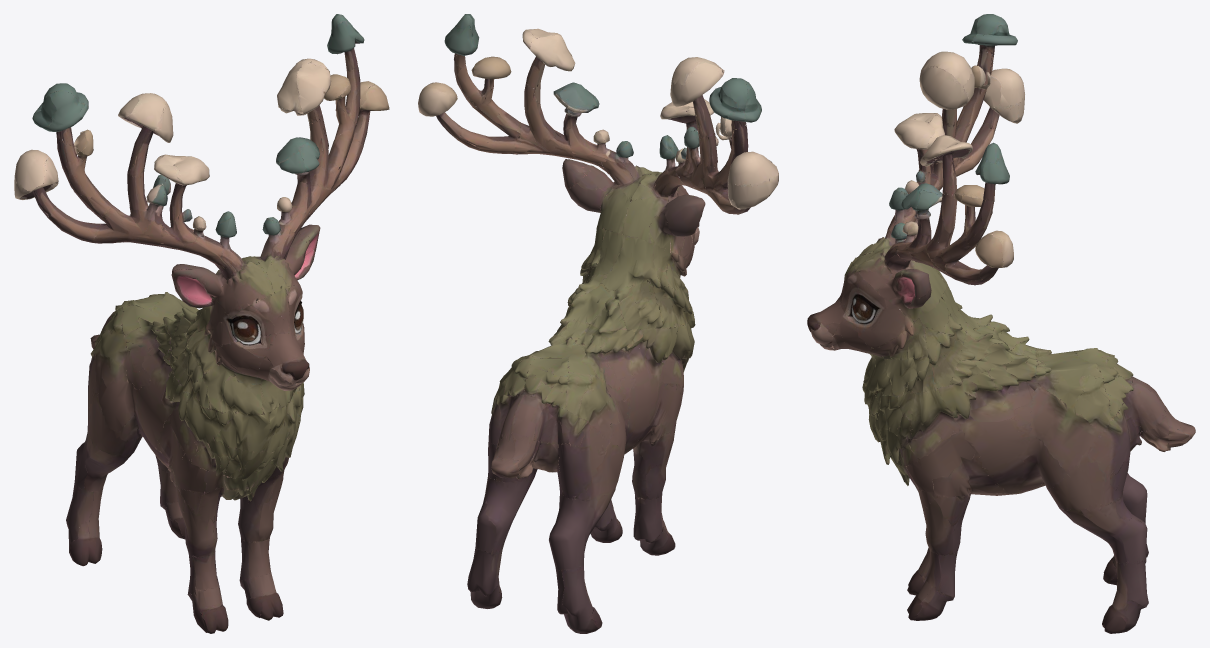
3 views of the same model, side by side, from view 1: azimuth 30°, elevation 25°; view 2: azimuth 150°, elevation 25°; view 3: azimuth 270°, elevation 25° (orthographic). The views are drawn at different scales.
Parts seen in each view (by area): view 1: Mesh_0; view 2: Mesh_0; view 3: Mesh_0.
Boxes of the visible parts, <box> form: Mesh_0: <box>14,14,389,633</box>; Mesh_0: <box>418,14,778,633</box>; Mesh_0: <box>807,14,1195,633</box>.
Size of the model in its own units: 1.34 by 1.89 by 1.27.
Materials: 1 (1 with a texture image).
